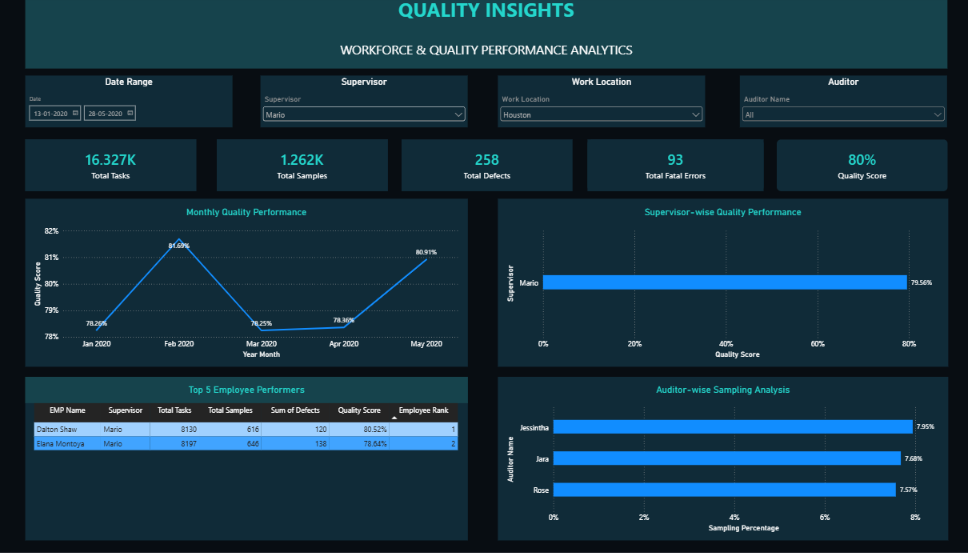

The dashboard page shown, as its layout file describes it:
{"tool":"powerbi","page":{"name":"Page 1","canvas":[1920,1080],"ordinal":0},"visuals":[{"type":"textbox","box":[84,0,1780,139.9],"z":1},{"type":"slicer","title":"Supervisor","fields":{"Values":["Emp Master.Supervisor"]},"box":[538.3,152.6,400,100],"z":3},{"type":"slicer","title":"Work Location","fields":{"Values":["Emp Master.Work Location"]},"box":[996.1,152.6,400,100],"z":4},{"type":"slicer","title":"Auditor","fields":{"Values":["Auditors.Auditor Name"]},"box":[1464.5,152.6,400,100],"z":5},{"type":"slicer","title":"Date Range","fields":{"Values":["Calendar.Date"]},"box":[84.8,152.6,400,100],"z":6},{"type":"cardVisual","fields":{"Data":["Sum(Quality Data.Total Task)"]},"box":[84.8,277.6,330,100],"z":7},{"type":"cardVisual","fields":{"Data":["Sum(Quality Data.Samples)"]},"box":[453.6,277.6,330,100],"z":8},{"type":"cardVisual","fields":{"Data":["Sum(Quality Data.Defects)"]},"box":[809.6,277.6,330,100],"z":9},{"type":"cardVisual","fields":{"Data":["Quality Data.Quality Score"]},"box":[1534.4,277.6,330,100],"z":10},{"type":"cardVisual","fields":{"Data":["Sum(Quality Data.Fatal Errors)"]},"box":[1169.9,277.6,340,100],"z":11},{"type":"tableEx","title":"Top 5 Employee Performers","fields":{"Values":["Emp Master.EMP Name","Emp Master.Supervisor","Sum(Quality Data.Total Task)","Sum(Quality Data.Samples)","Sum(Quality Data.Defects)","Quality Data.Quality Score","Emp Master.Employee Rank"]},"box":[84.8,735.4,854.1,315.8],"z":13},{"type":"clusteredBarChart","title":"Supervisor-wise Quality Performance","fields":{"Category":["Emp Master.Supervisor"],"Y":["Quality Data.Quality Score"]},"box":[996.1,392.1,869,324.3],"z":14},{"type":"clusteredBarChart","title":"Auditor-wise Sampling Analysis","fields":{"Category":["Auditors.Auditor Name"],"Y":["Quality Data.Sampling Percentage"]},"box":[996.1,735.4,869,315.8],"z":15},{"type":"lineChart","title":"Monthly Quality Performance","fields":{"Category":["Calendar.Year Month"],"Y":["Quality Data.Quality Score"]},"box":[84.8,392.1,854.1,324.3],"z":16}]}

Visuals, with their boxes in screenshot pixels (x1, y1, x2, y2), scaled from the page's 1920x1080 canvas onto the 968x553 screenshot:
textbox: BBox(42, 0, 940, 72)
"Supervisor" slicer: BBox(271, 78, 473, 129)
"Work Location" slicer: BBox(502, 78, 704, 129)
"Auditor" slicer: BBox(738, 78, 940, 129)
"Date Range" slicer: BBox(43, 78, 244, 129)
cardVisual - Sum(Quality Data.Total Task): BBox(43, 142, 209, 193)
cardVisual - Sum(Quality Data.Samples): BBox(229, 142, 395, 193)
cardVisual - Sum(Quality Data.Defects): BBox(408, 142, 575, 193)
cardVisual - Quality Data.Quality Score: BBox(774, 142, 940, 193)
cardVisual - Sum(Quality Data.Fatal Errors): BBox(590, 142, 761, 193)
"Top 5 Employee Performers" tableEx: BBox(43, 377, 473, 538)
"Supervisor-wise Quality Performance" clusteredBarChart: BBox(502, 201, 940, 367)
"Auditor-wise Sampling Analysis" clusteredBarChart: BBox(502, 377, 940, 538)
"Monthly Quality Performance" lineChart: BBox(43, 201, 473, 367)
